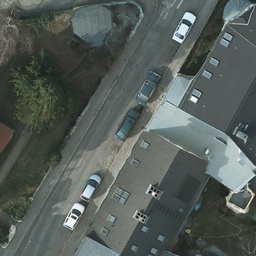car: (137, 70, 160, 107), (171, 10, 195, 45), (116, 110, 141, 141), (64, 202, 83, 234), (80, 172, 100, 202)
